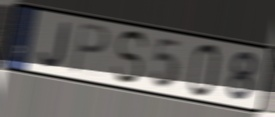0: (187, 42, 223, 99)
5: (149, 37, 185, 90)
8: (226, 50, 259, 103)
J: (38, 20, 71, 69)
P: (70, 20, 111, 76)
S: (110, 28, 150, 85)
